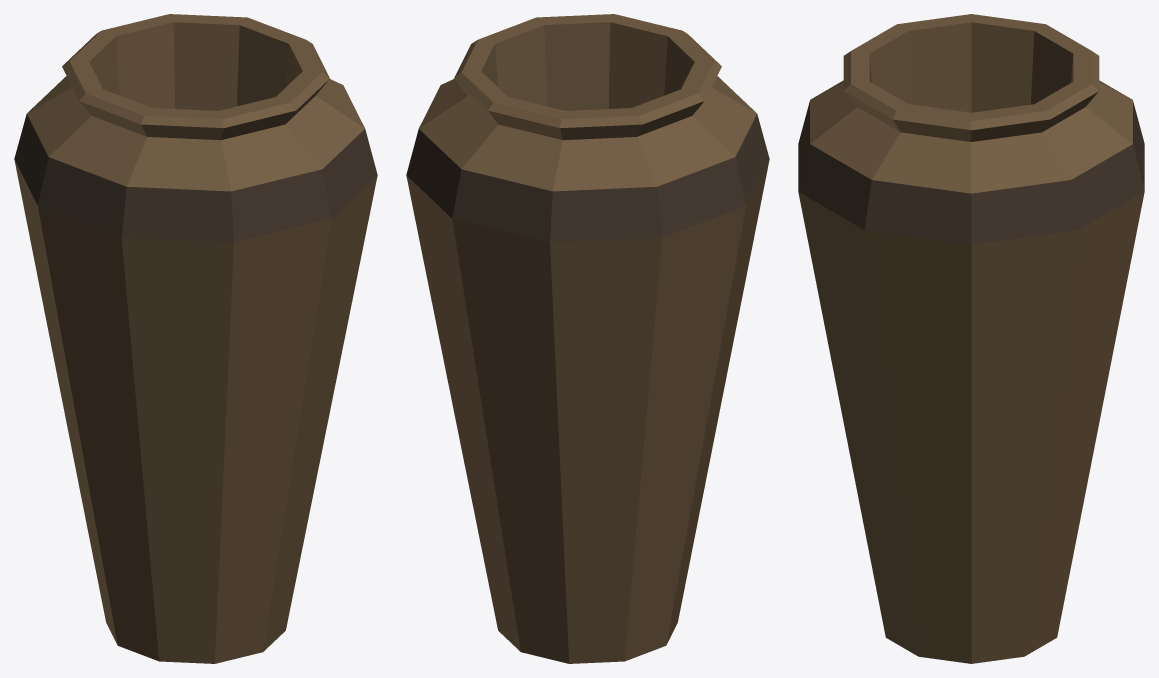
The model's file is Pot_1.fbx.
3 renders of one model, left to right at view 1: azimuth 30°, elevation 25°; view 2: azimuth 150°, elevation 25°; view 3: azimuth 270°, elevation 25°, orthographic.
Parts seen in each view (by area): view 1: pCylinder262; view 2: pCylinder262; view 3: pCylinder262.
Part boxes in pixels (x1=…): pCylinder262: x1=14, y1=14, x2=377, y2=663; pCylinder262: x1=406, y1=14, x2=769, y2=663; pCylinder262: x1=798, y1=14, x2=1144, y2=663.
Bounding box in the file's own units: 51.59 × 87.24 × 49.06.
